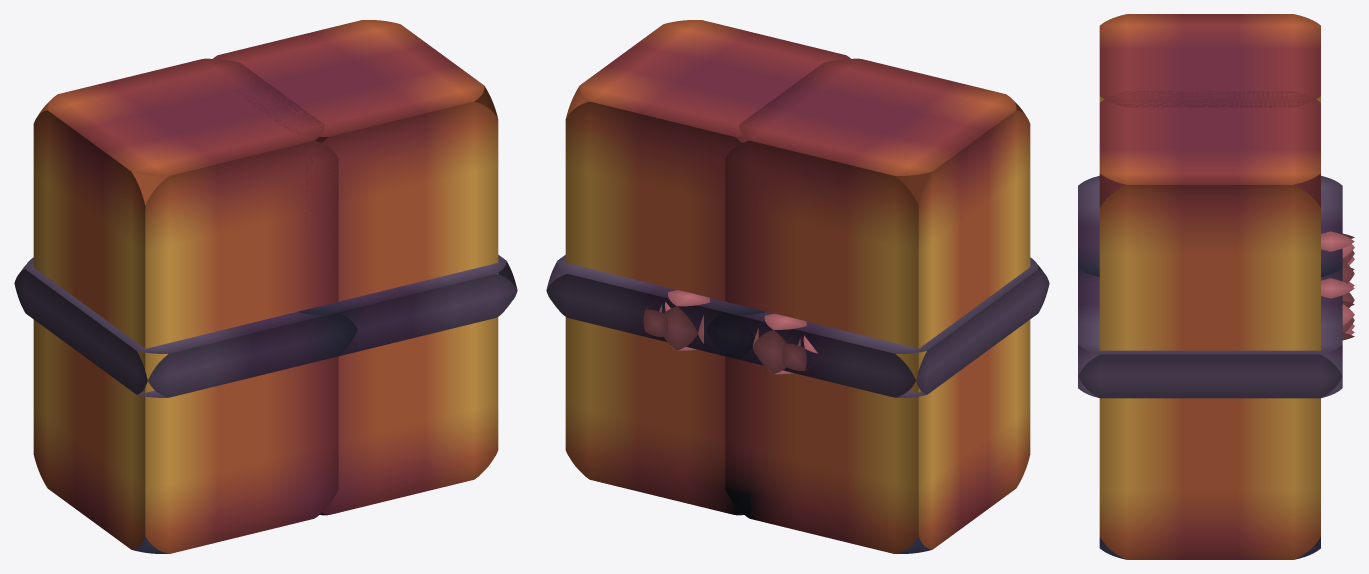
The model's file is DuelistArmorLeg.obj.
3 views of the same model, side by side, from view 1: azimuth 30°, elevation 25°; view 2: azimuth 150°, elevation 25°; view 3: azimuth 270°, elevation 25° (orthographic).
Parts seen in each view (by area): view 1: Left Leg Layer, Right Leg Layer, cube; view 2: Left Leg Layer, Right Leg Layer, cube; view 3: Right Leg Layer, cube, Left Leg Layer.
Boxes of the visible parts, x1,y1,x2,y2 form: Left Leg Layer: [33, 58, 338, 553]; Right Leg Layer: [213, 20, 498, 515]; cube: [14, 255, 517, 397]; Left Leg Layer: [725, 58, 1030, 553]; Right Leg Layer: [565, 20, 850, 515]; cube: [546, 255, 1049, 397]; Right Leg Layer: [1099, 91, 1320, 559]; cube: [1078, 176, 1354, 398]; Left Leg Layer: [1099, 14, 1320, 207].
Size of the model in its own units: 0.55 by 0.5375 by 0.3596.
Materials: 1 (1 with a texture image).
